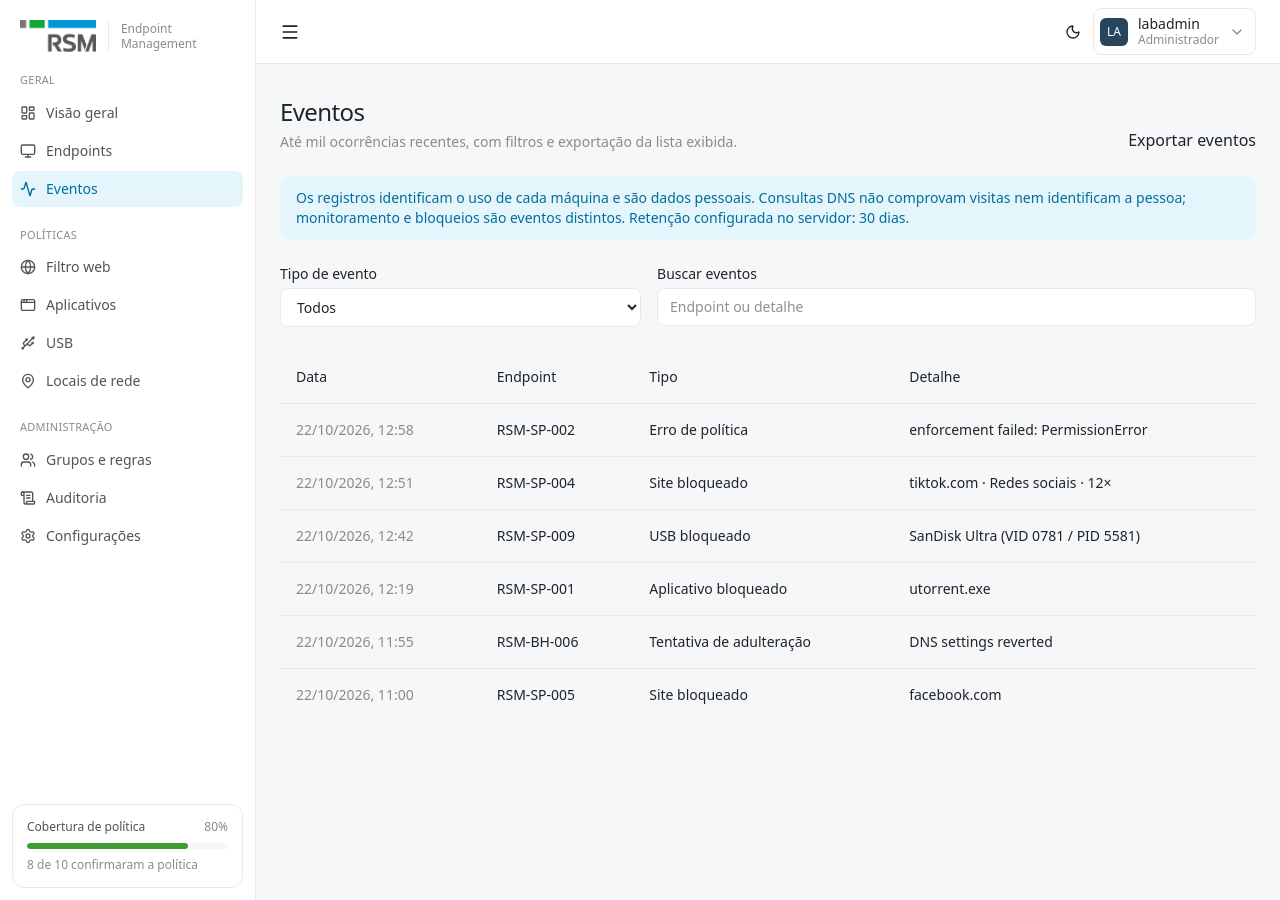
Test: management pages › filters real events by type and endpoint
Expected: the cell "utorrent.exe" is shown, [893,562,1256,616]
Select "Aplicativo bloqueado" in the dropdown labelled "Tipo de evento" at (461, 308), box [280,288,641,327]
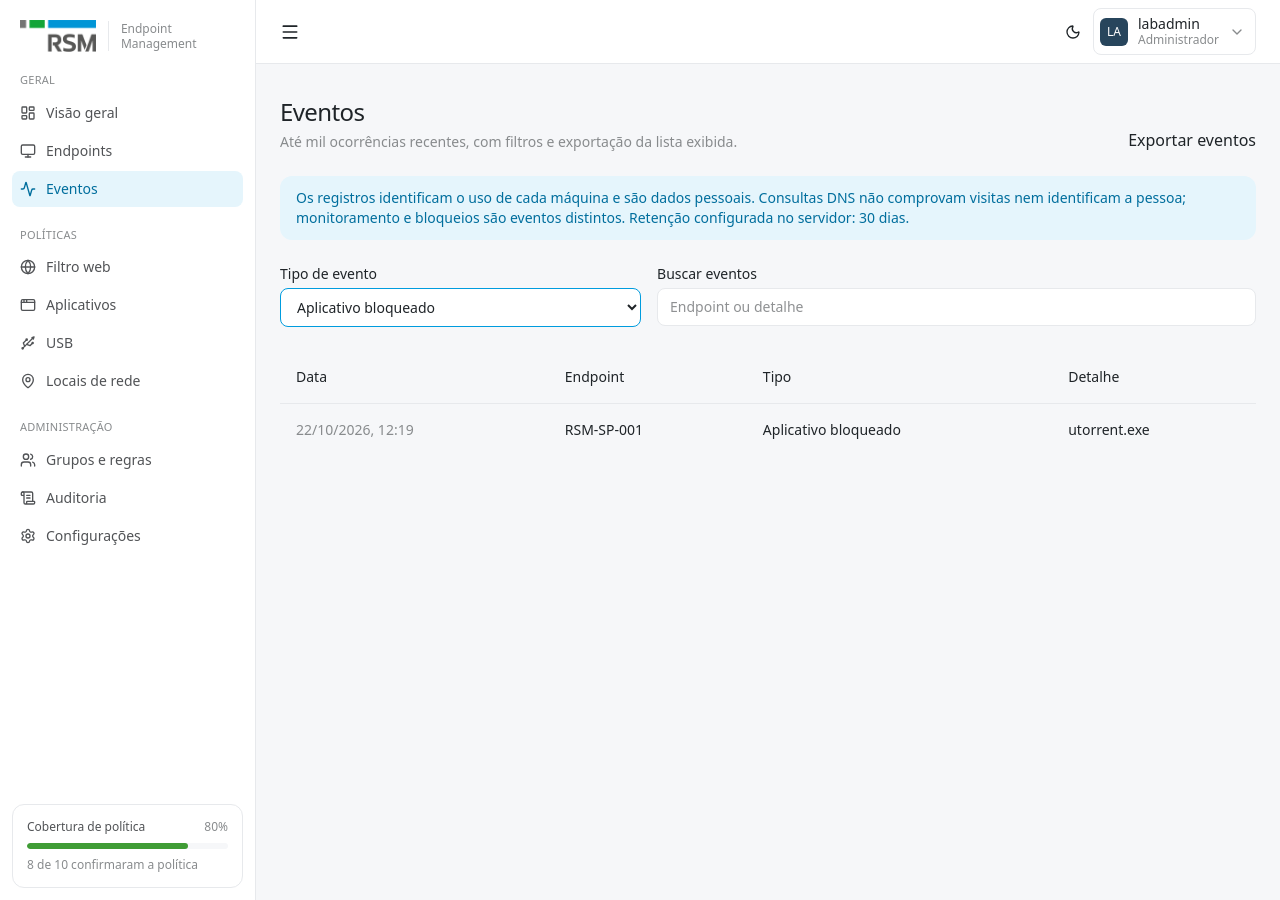
Now the number of rows is 2, box [280,351,1256,404]; [280,404,1256,456]
Click the search field labelled "Buscar eventos" at (957, 307), box [657,288,1256,326]
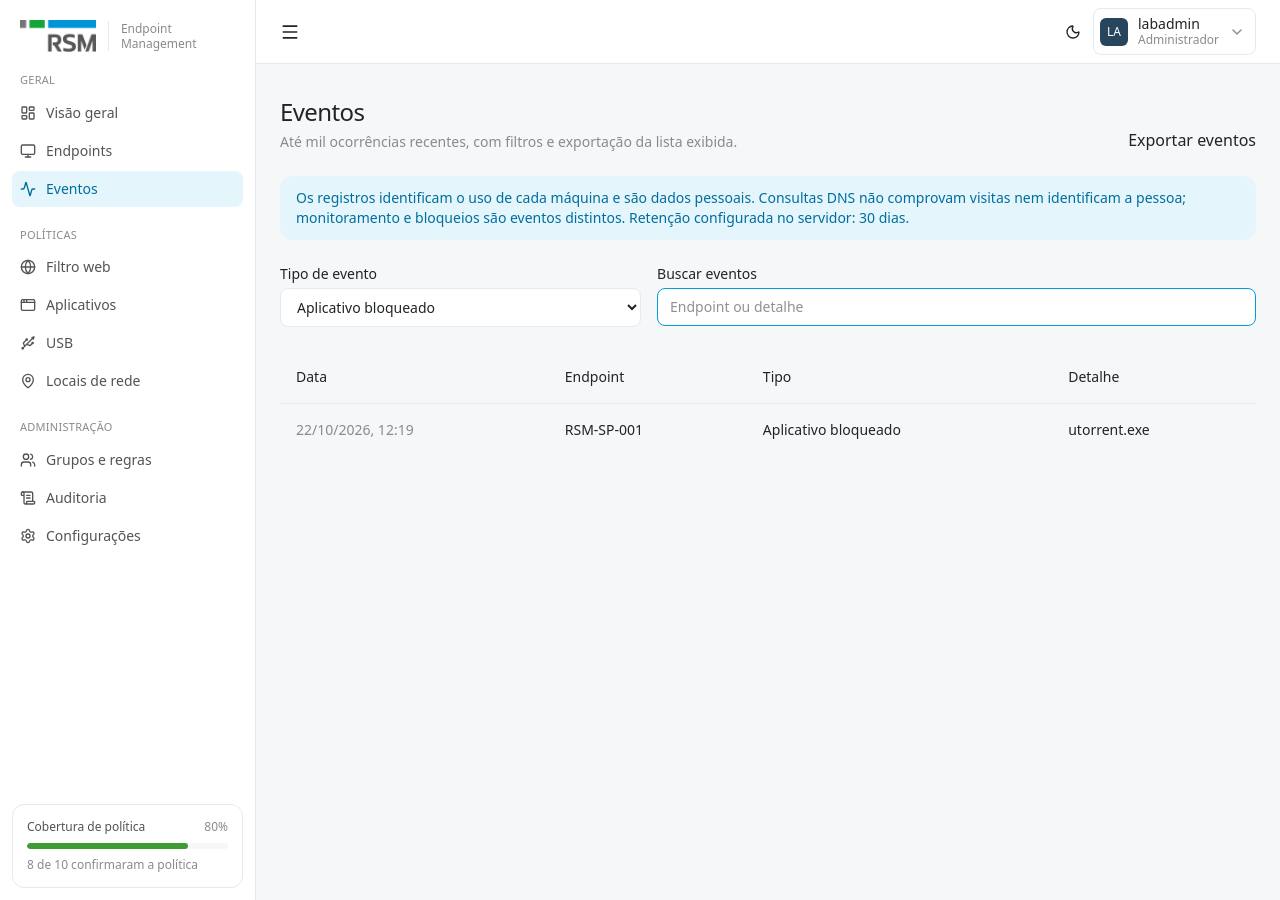
Type keys "missing-pc"
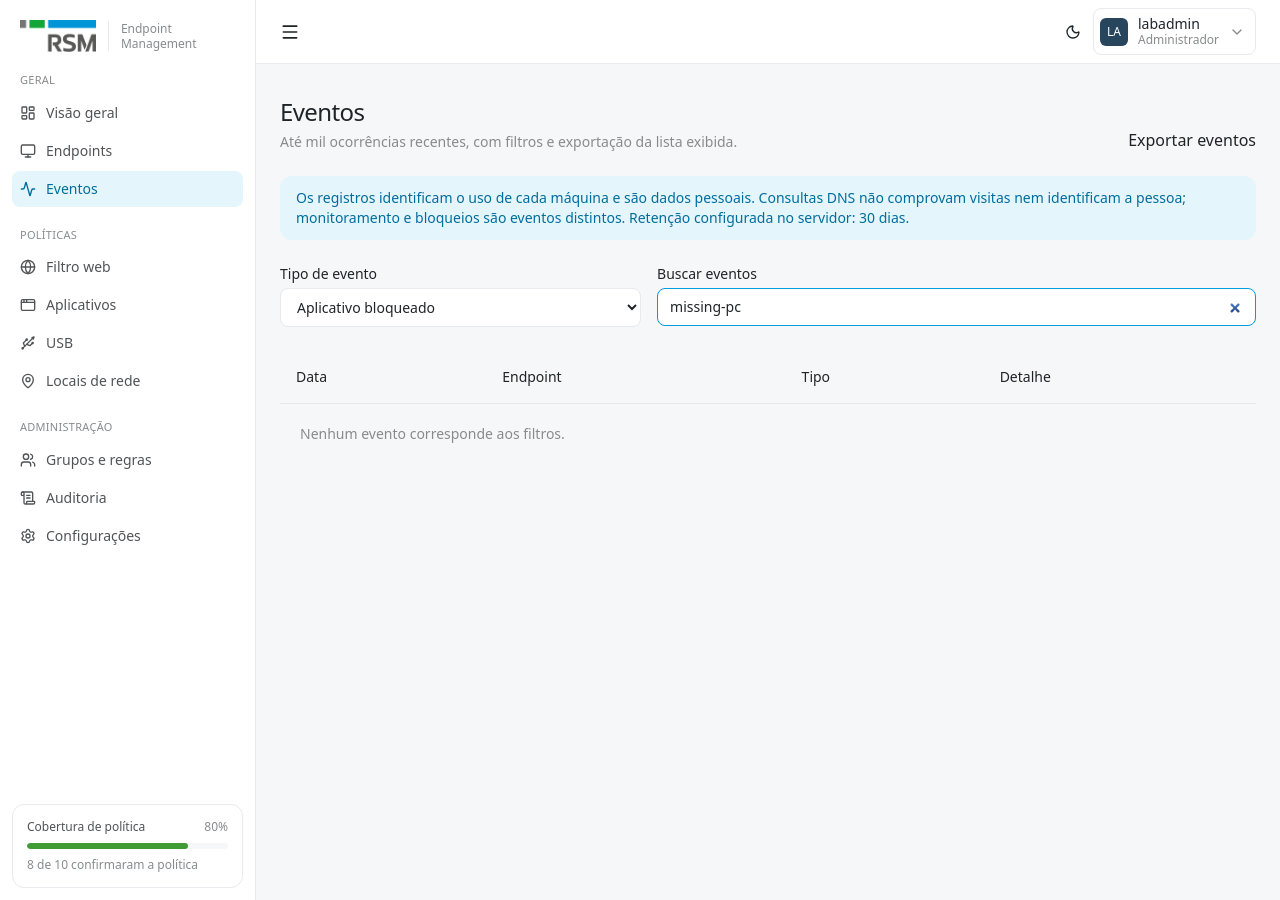
Now the text "Nenhum evento corresponde aos filtros." is shown, box [300,424,565,443]
